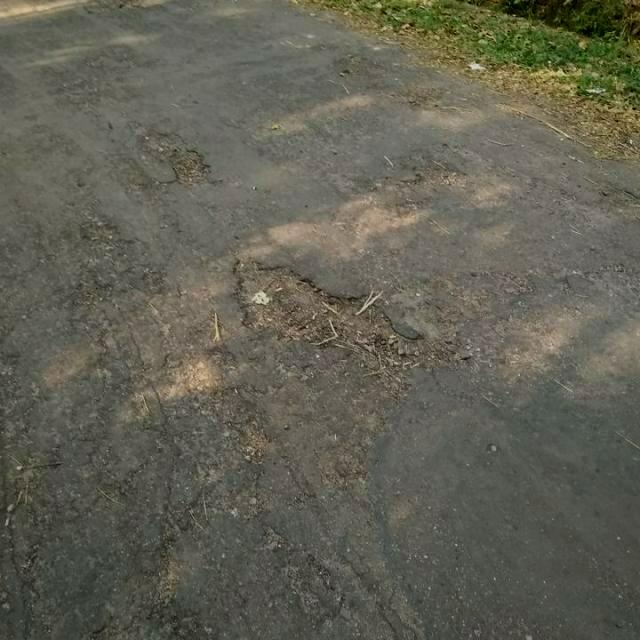Pothole: (231, 252, 440, 369), (143, 130, 215, 187), (598, 185, 640, 208)
